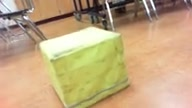cube: (39, 26, 129, 107)
